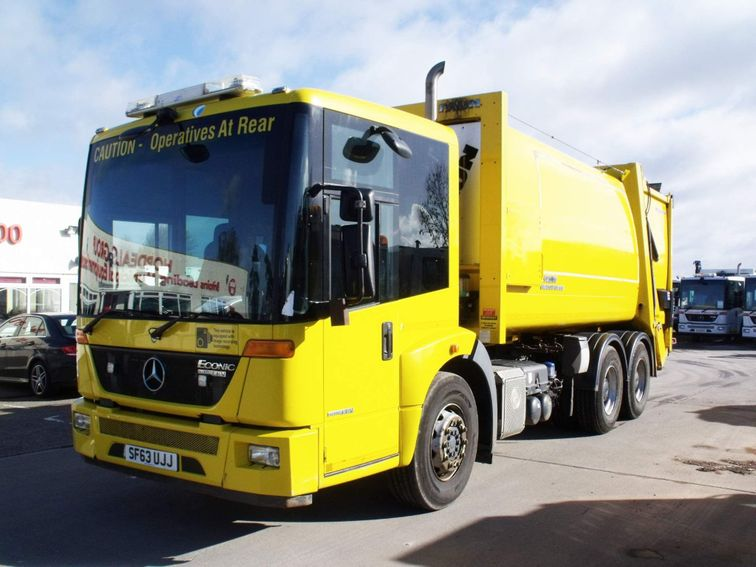Car: (0, 312, 79, 397)
Semi: (72, 60, 672, 511), (674, 272, 736, 338)
